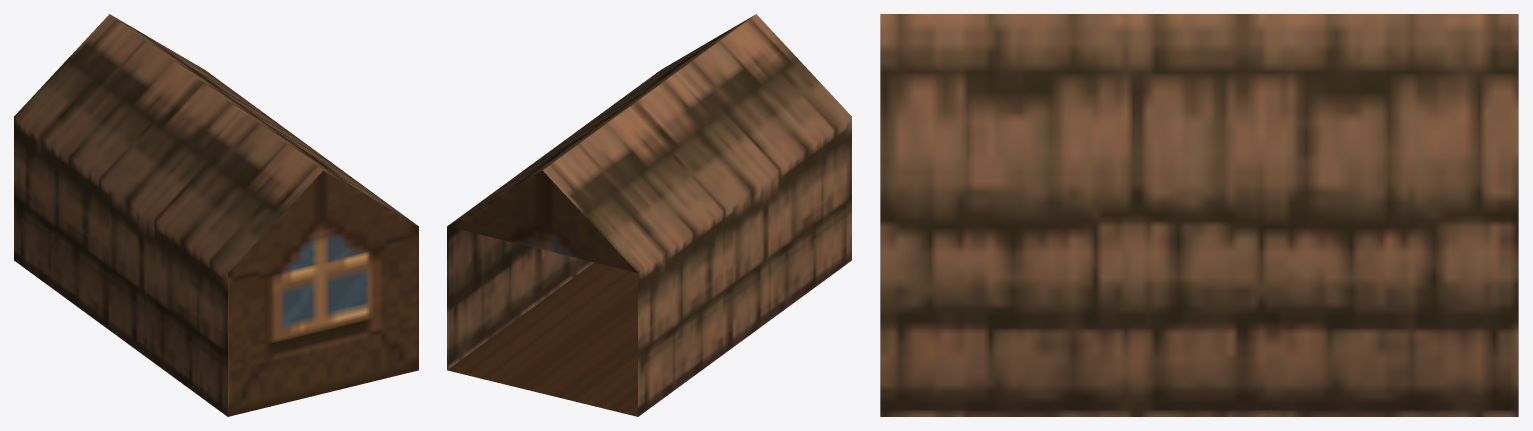
File: lookout_window_02.fbx
3 renders of one model, left to right at view 1: azimuth 30°, elevation 25°; view 2: azimuth 150°, elevation 25°; view 3: azimuth 270°, elevation 25°, orthographic. The views are drawn at different scales.
Visible parts, largest first — view 1: lookout_window_02_export; view 2: lookout_window_02_export; view 3: lookout_window_02_export.
Part boxes in pixels (<box>): lookout_window_02_export: <box>14,14,418,416</box>; lookout_window_02_export: <box>447,14,851,416</box>; lookout_window_02_export: <box>880,14,1518,416</box>.
Bounding box in the file's own units: 25.15 × 28.07 × 48.73.
1 material, 1 textured.
